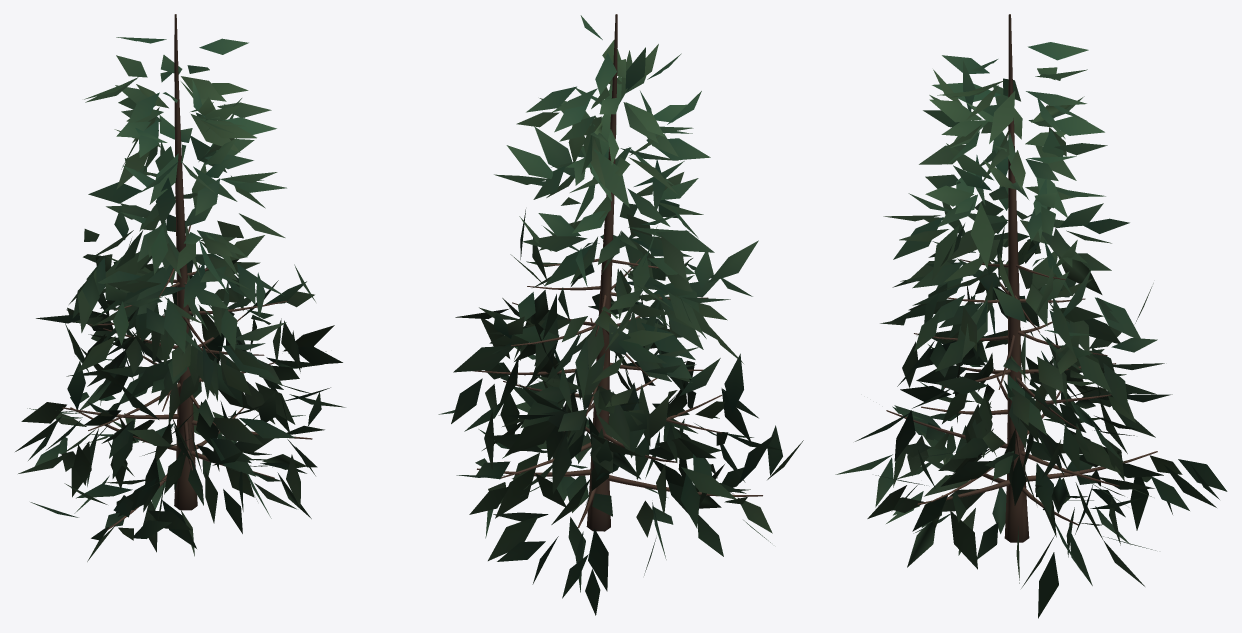
File: spruce-c.lod1.glb
The picture shows the model from 3 angles, left to right: view 1: azimuth 30°, elevation 25°; view 2: azimuth 150°, elevation 25°; view 3: azimuth 270°, elevation 25°; orthographic projection. The views are drawn at different scales.
Bounding box in the file's own units: 9.36 × 15.68 × 10.03.
